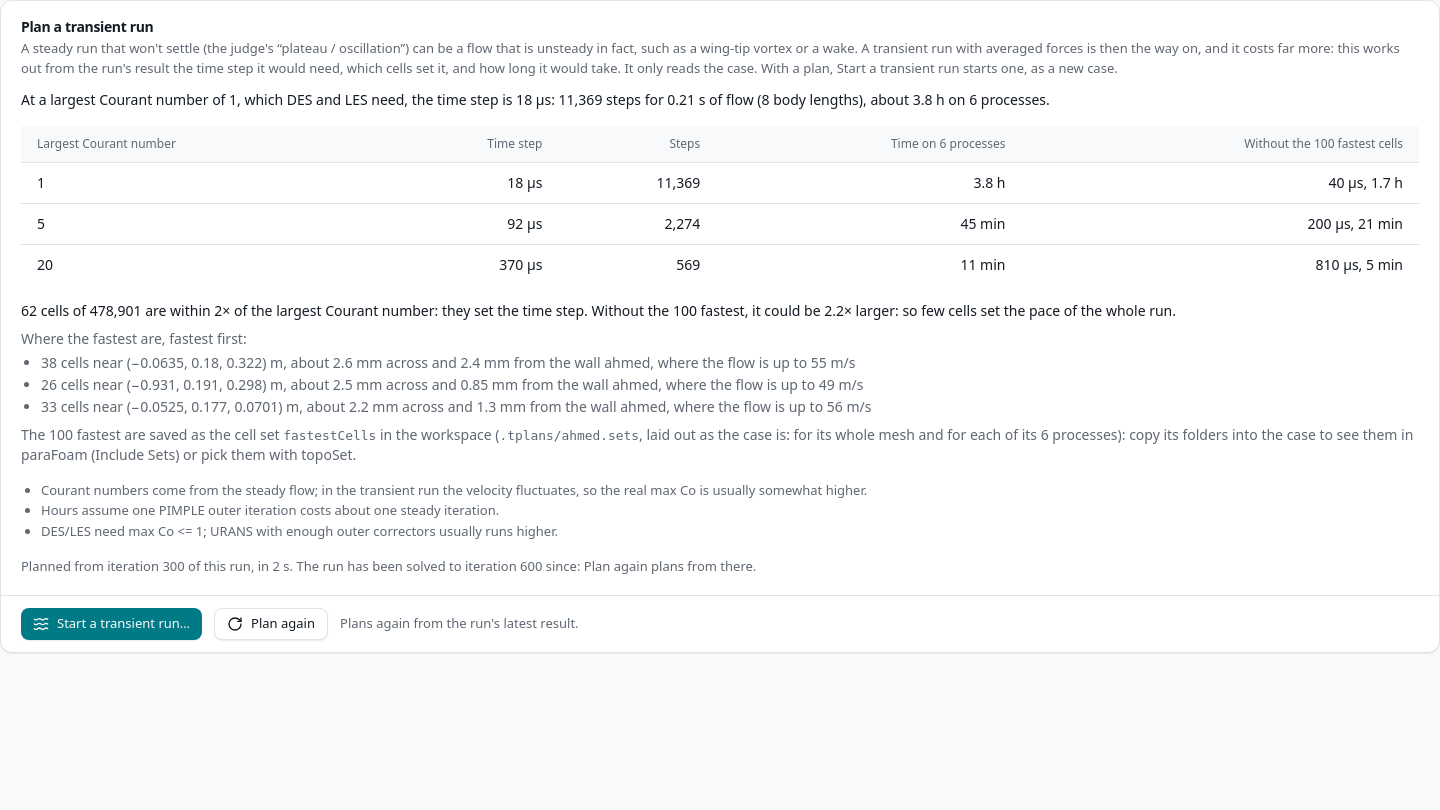
Test case: Plan a transient run › a plan from an earlier result: says the run has been solved further since, and plans again from there
The width and height of the screenshot is (1440, 810).
Step 1. Click the button "Plan again" → (271, 624), box [214,608,328,640]
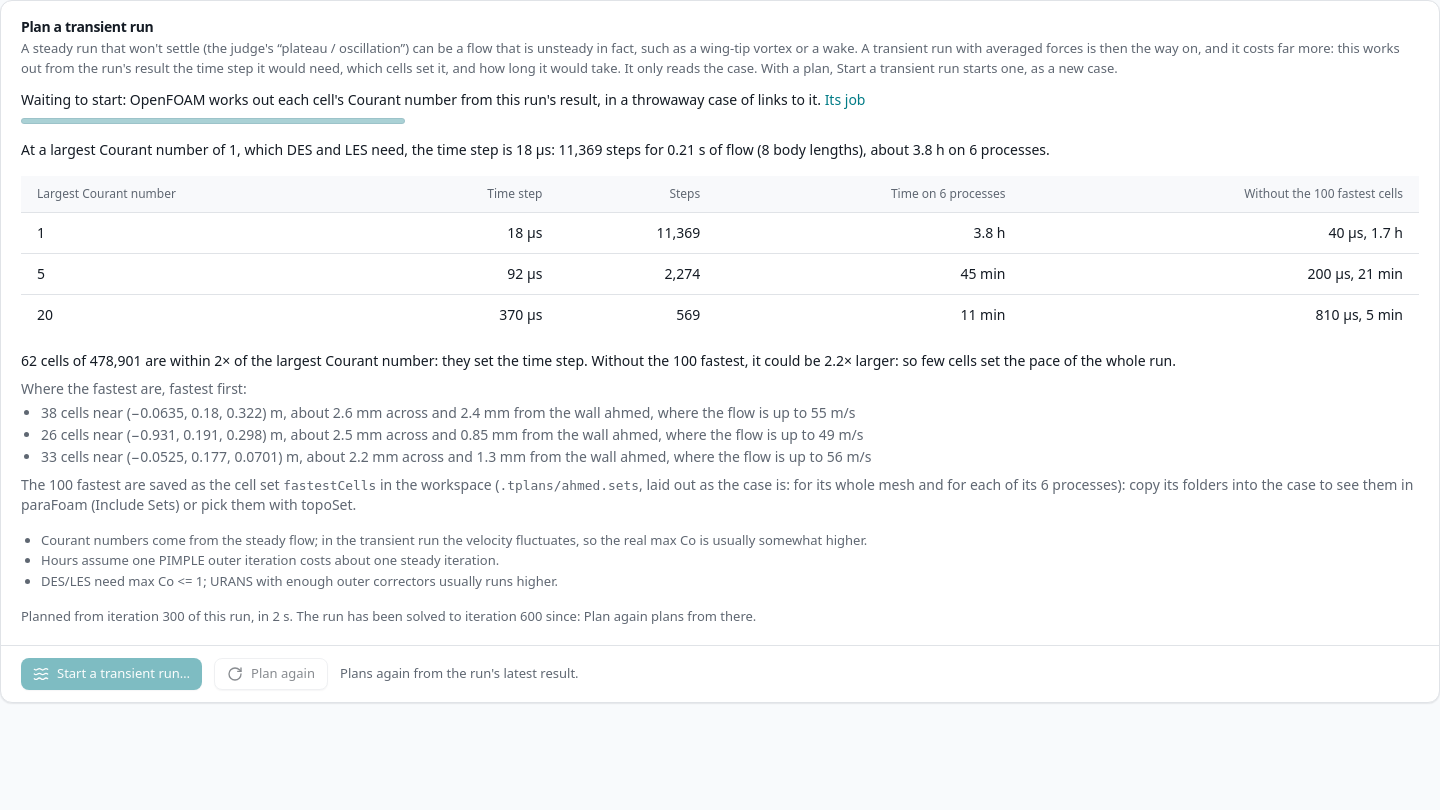
expect the text "Waiting to start" is shown: met, box [21,90,122,109]
